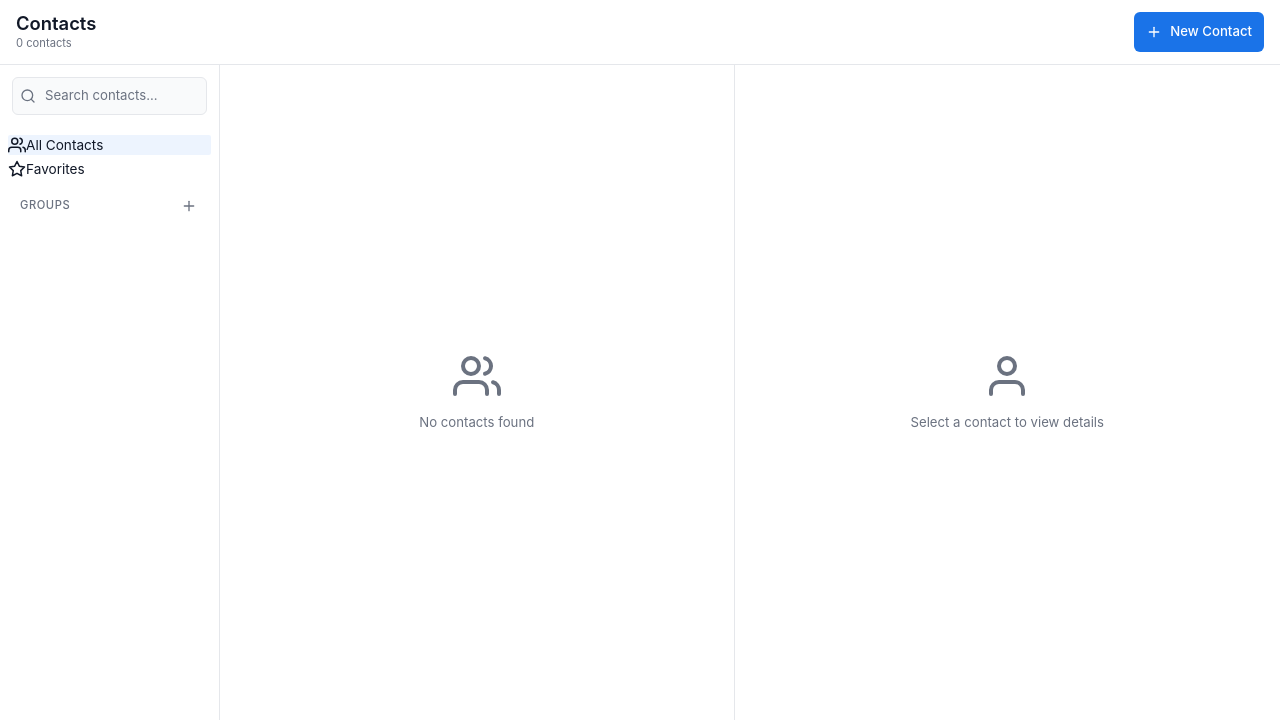
Scenario: ContactsPanel - Group management › shows group creation form when + button is clicked
This screenshot has width=1280, height=720.
Click the button titled "create new group" at {"x": 189, "y": 206}, box x1=179 y1=196 x2=199 y2=216
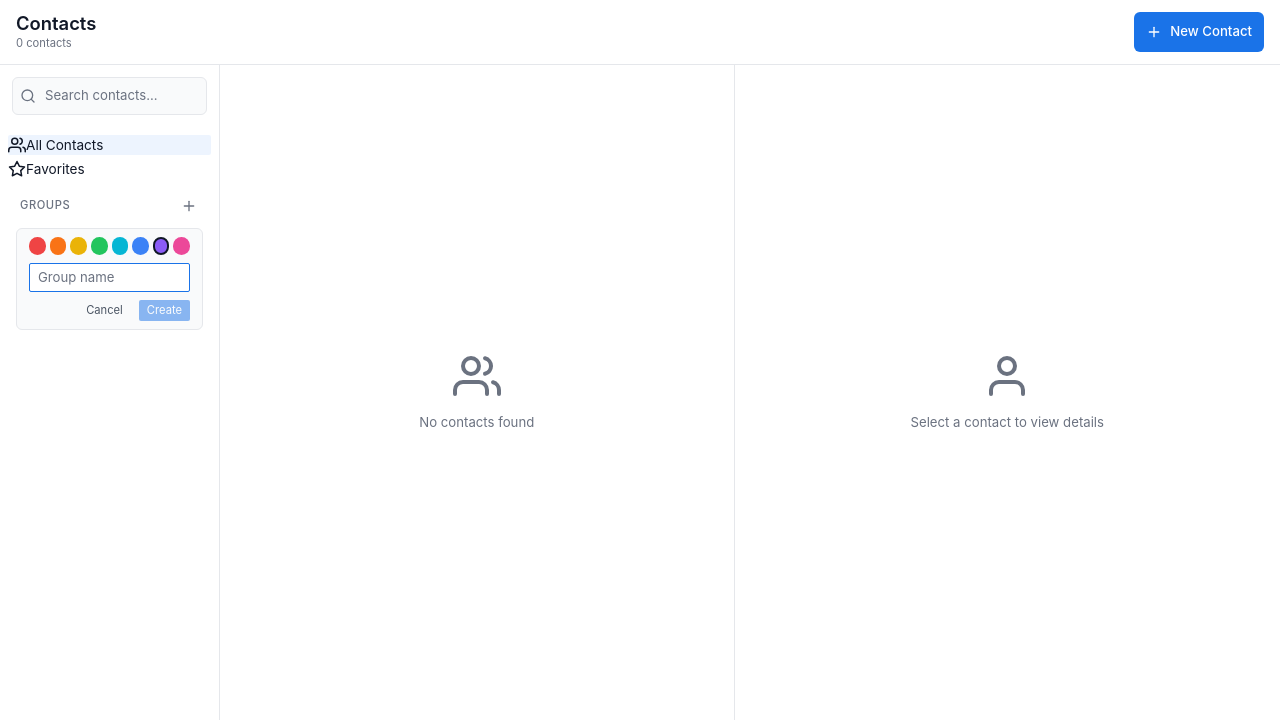
Expected: the field with placeholder "Group name" is shown, x1=29 y1=263 x2=190 y2=292
